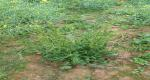zhavel: (17, 14, 132, 69)
